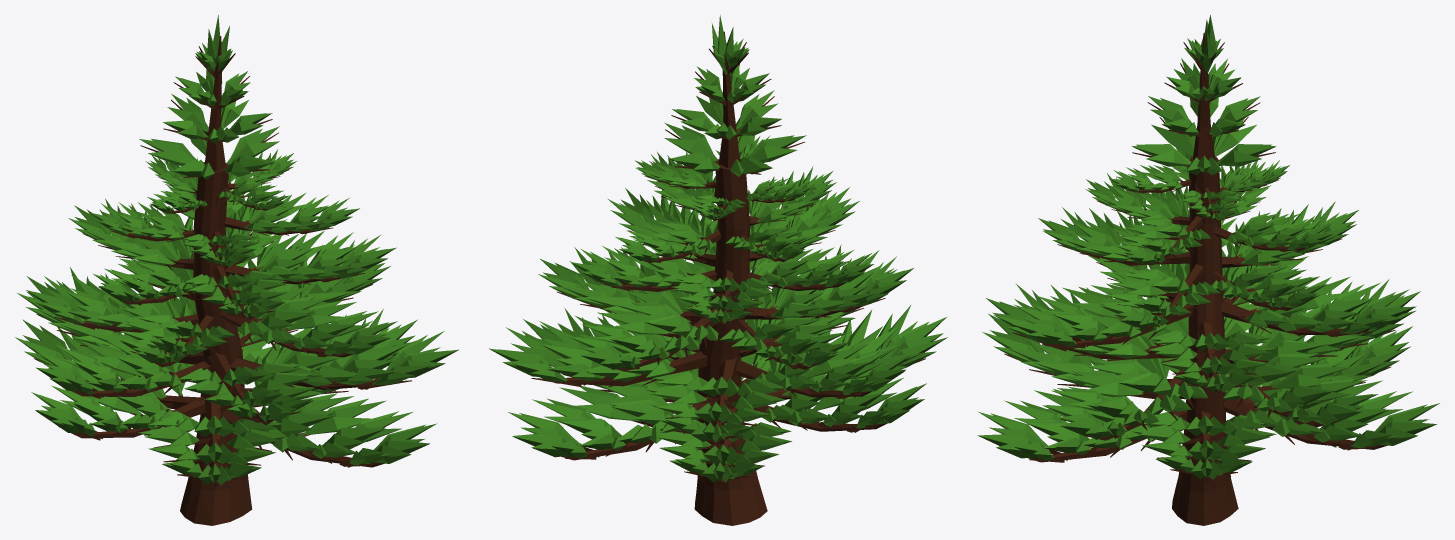
Rendered from GR_Tree_Pine_LOD0.fbx.
3 views of the same model, side by side, from view 1: azimuth 30°, elevation 25°; view 2: azimuth 150°, elevation 25°; view 3: azimuth 270°, elevation 25° (orthographic).
Visible parts, largest first — view 1: GR_Tree_Pine_LOD0; view 2: GR_Tree_Pine_LOD0; view 3: GR_Tree_Pine_LOD0.
Part boxes in pixels (<box>): GR_Tree_Pine_LOD0: <box>15,15,458,525</box>; GR_Tree_Pine_LOD0: <box>489,15,947,525</box>; GR_Tree_Pine_LOD0: <box>977,15,1439,525</box>.
Bounding box in the file's own units: 2.55 × 3.06 × 2.58.
Materials: 2 (2 with a texture image).
